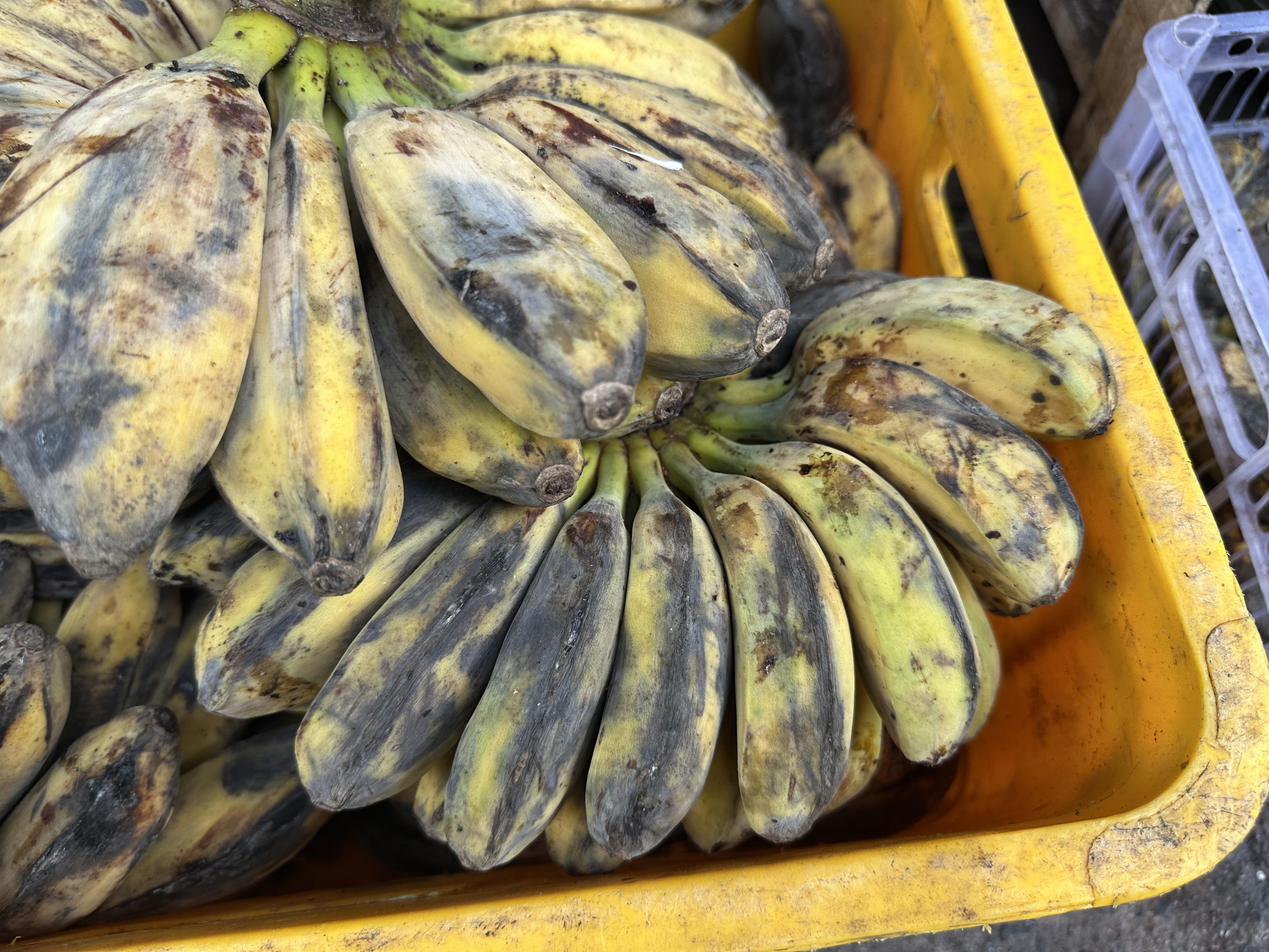ripe: (0, 12, 834, 595), (0, 560, 330, 935)
underripe: (149, 272, 1116, 870)
